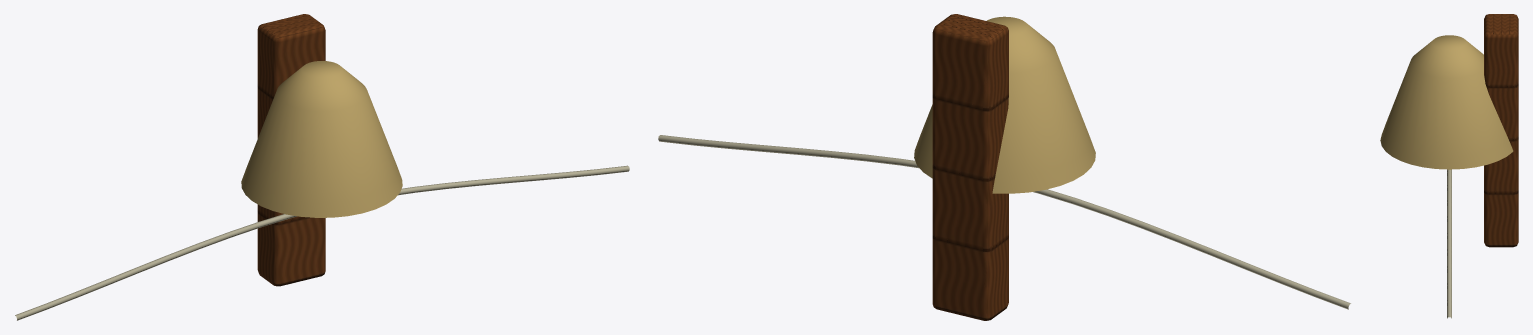
Rendered from undercity-sewers-and-thieves-den-tripwire-bell-e750375e__27258.glb.
3 views of the same model, side by side, from view 1: azimuth 30°, elevation 25°; view 2: azimuth 150°, elevation 25°; view 3: azimuth 270°, elevation 25° (orthographic). The views are drawn at different scales.
Parts seen in each view (by area): view 1: tripwire-bell; view 2: tripwire-bell; view 3: tripwire-bell.
Part boxes in pixels (<box>): tripwire-bell: <box>15,14,629,320</box>; tripwire-bell: <box>658,14,1350,320</box>; tripwire-bell: <box>1380,14,1518,318</box>.
Bounding box in the file's own units: 1.4 × 0.55 × 0.32.
3 materials, 1 textured.
